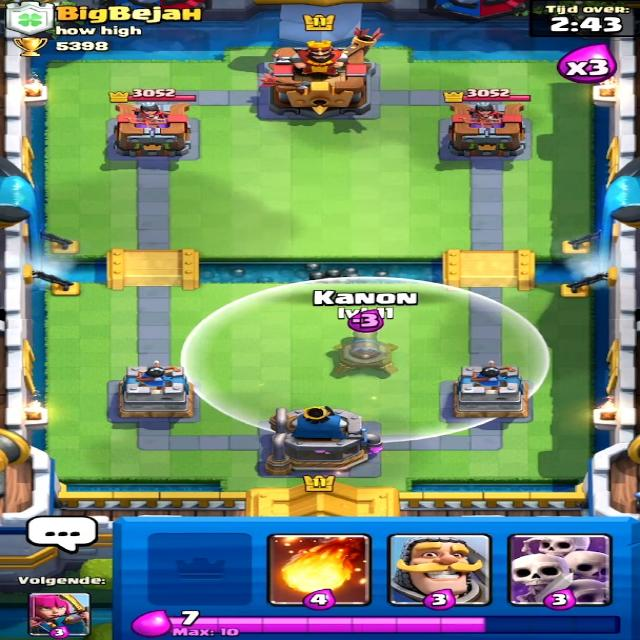Fireball_Card: (271, 530, 361, 604)
